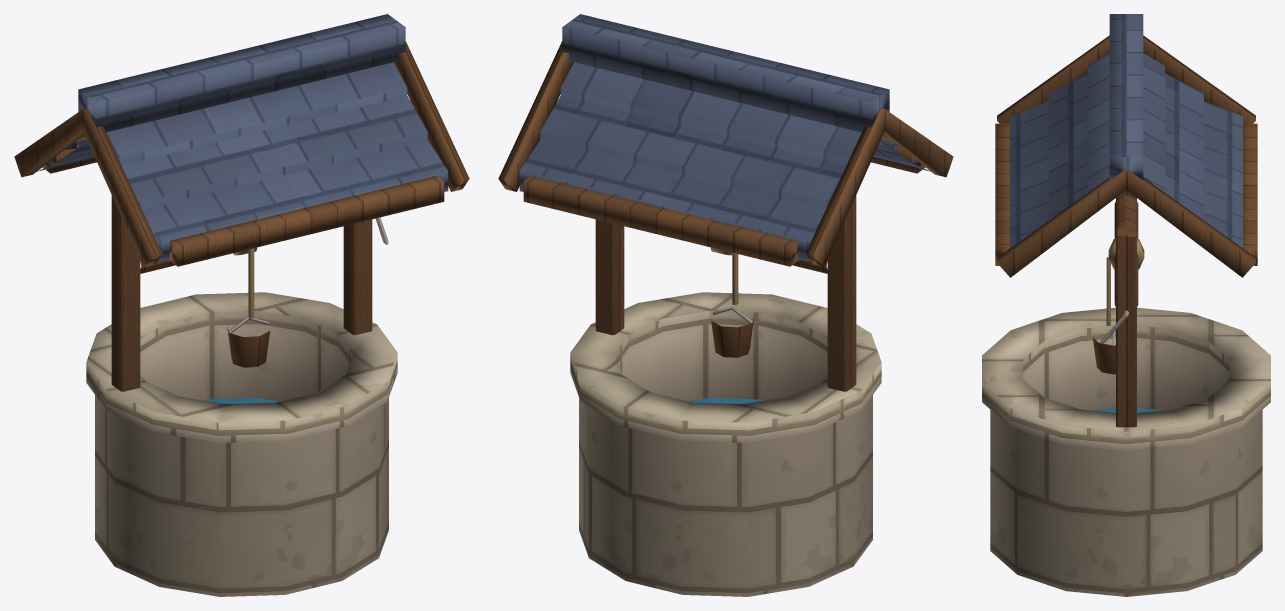
The model's file is well.glb.
3 renders of one model, left to right at view 1: azimuth 30°, elevation 25°; view 2: azimuth 150°, elevation 25°; view 3: azimuth 270°, elevation 25°, orthographic. The views are drawn at different scales.
Visible parts, largest first — view 1: prop.well.mesh, bucket; view 2: prop.well.mesh, bucket; view 3: prop.well.mesh, bucket.
Part boxes in pixels (x1=…): prop.well.mesh: x1=14, y1=14, x2=469, y2=596; bucket: x1=227, y1=316, x2=269, y2=367; prop.well.mesh: x1=498, y1=14, x2=953, y2=596; bucket: x1=711, y1=306, x2=753, y2=357; prop.well.mesh: x1=982, y1=14, x2=1270, y2=596; bucket: x1=1092, y1=326, x2=1115, y2=374.
Bounding box in the file's own units: 1.65 × 2.36 × 1.36.
6 materials, 6 textured.
